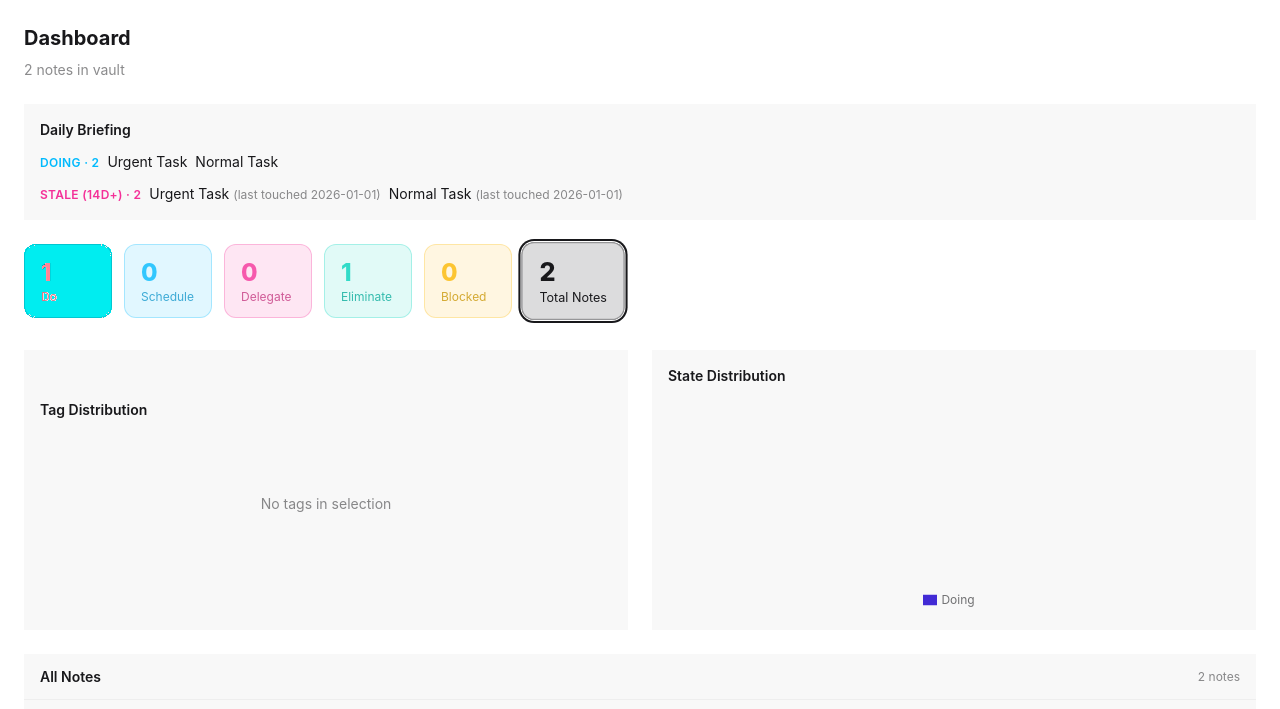
DashboardView — chip filtering › clicking an active filter chip a second time resets to 'All Notes'
Click the button "1 Do". click: coordinates (68, 281)
box: [24, 244, 112, 318]
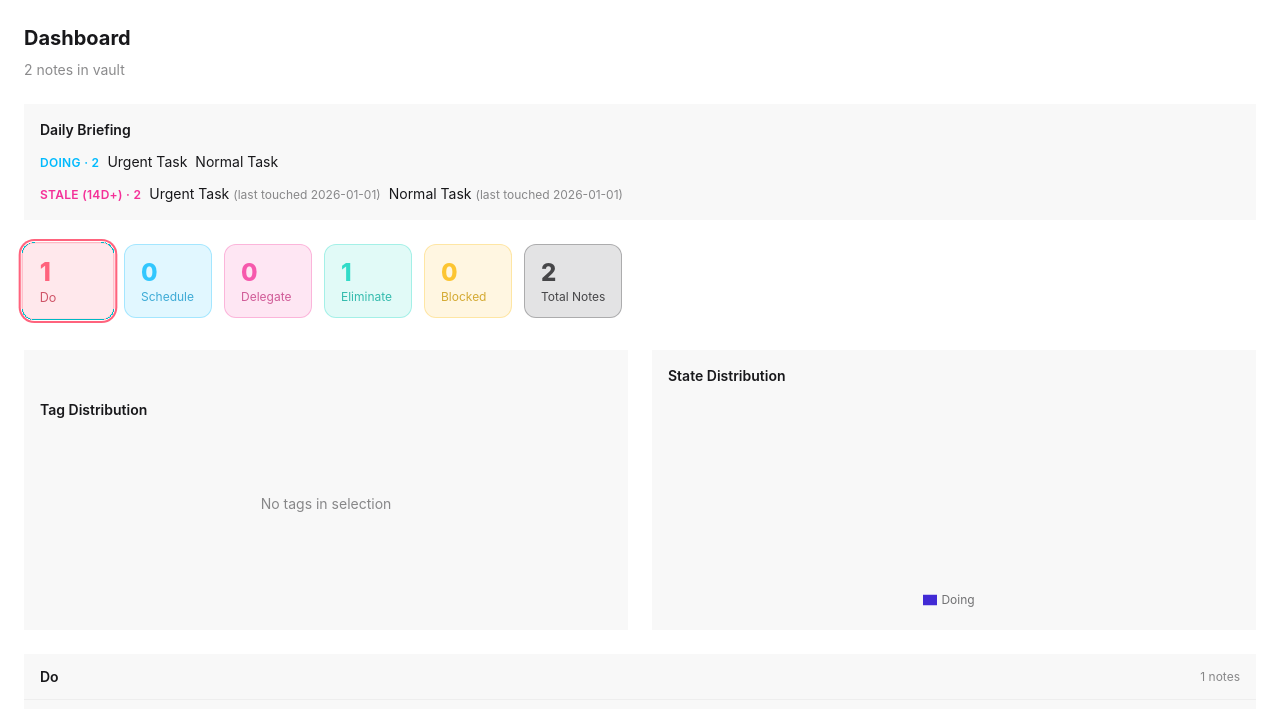
Click the button "1 Do". click: coordinates (68, 281)
box: [22, 242, 114, 320]
(page scrolled)
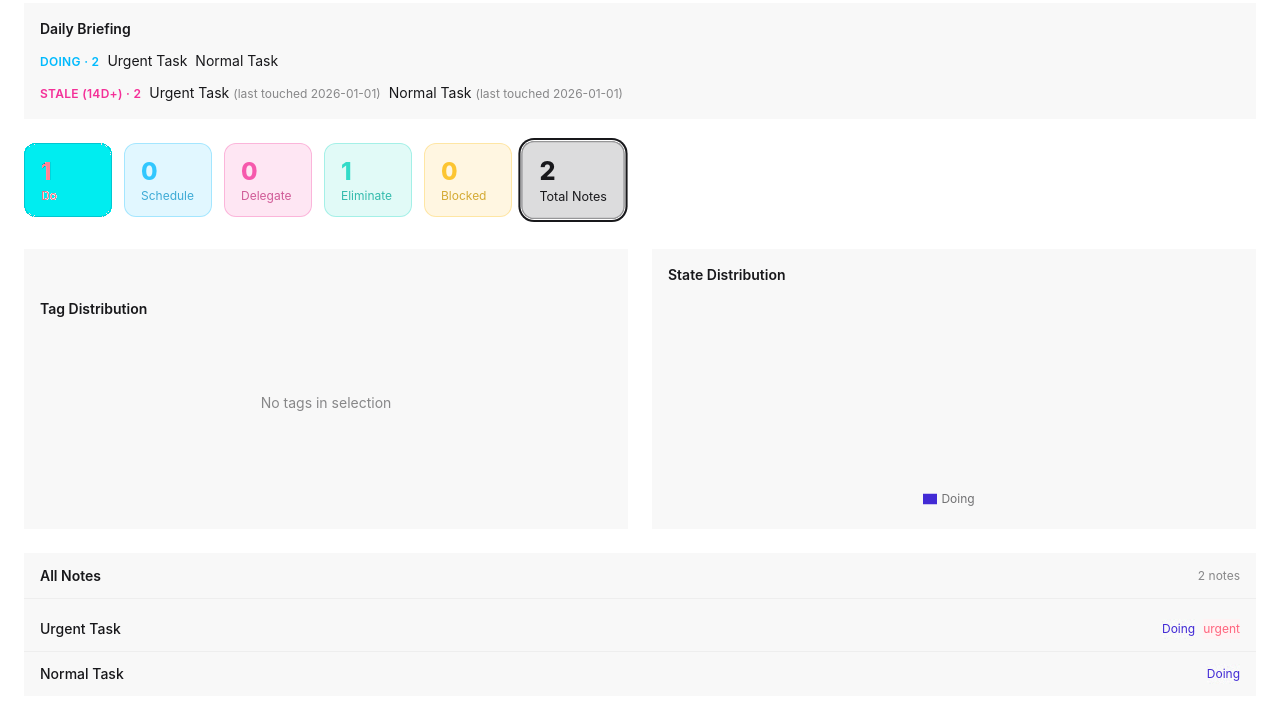
Now the text "Normal Task" is shown, box [40, 665, 124, 682]
